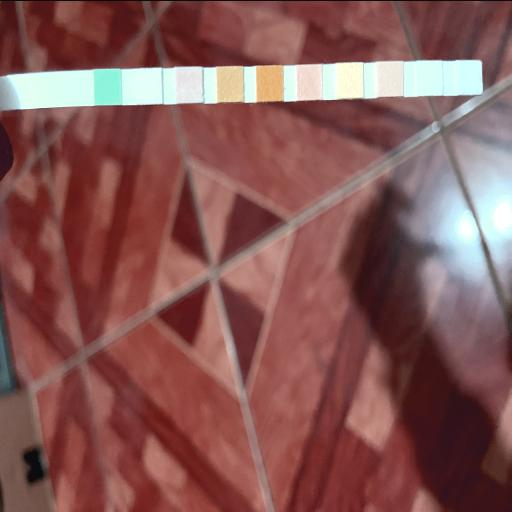Bilirubin: (134, 68, 162, 104)
Blood: (256, 64, 282, 100)
Glucose: (94, 68, 120, 104)
Ketone: (176, 65, 204, 103)
Leukocytes: (456, 60, 482, 94)
Nitrite: (416, 60, 442, 96)
Protein: (336, 62, 362, 98)
SpGravity: (216, 65, 244, 101)
Urobilinogen: (377, 61, 403, 95)
pH: (296, 64, 322, 100)
strip: (13, 59, 482, 107)
